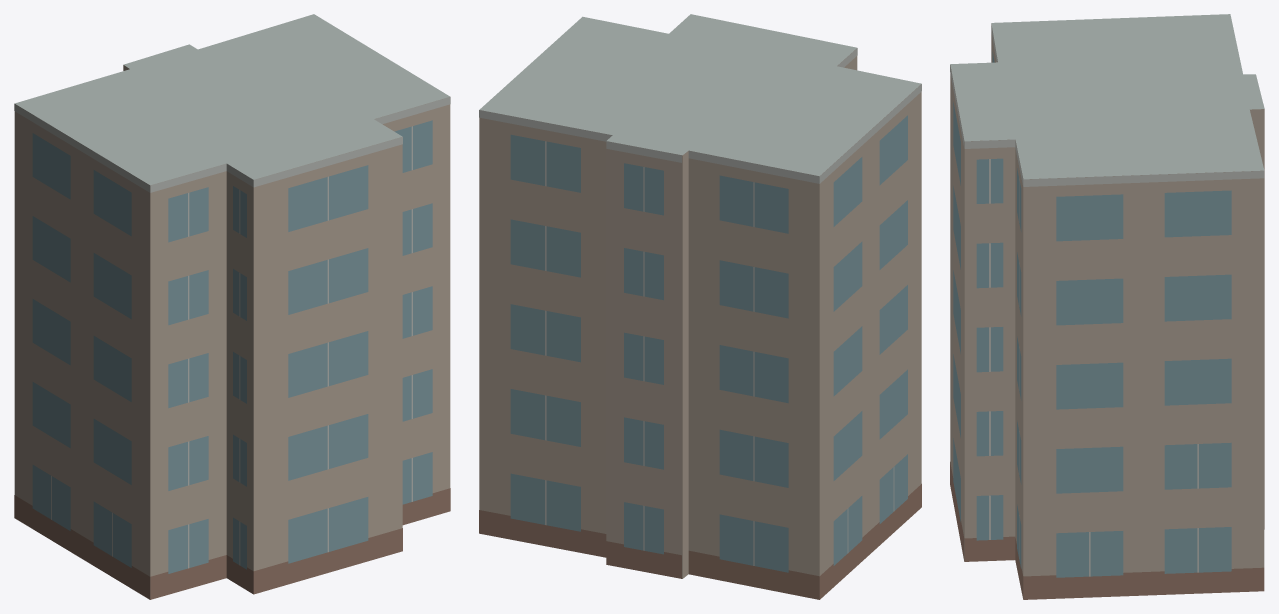
File: survey-upis-32608008.glb
3 renders of one model, left to right at view 1: azimuth 30°, elevation 25°; view 2: azimuth 150°, elevation 25°; view 3: azimuth 270°, elevation 25°, orthographic. The views are drawn at different scales.
Parts seen in each view (by area): view 1: survey-upis-32608008.tmp; view 2: survey-upis-32608008.tmp; view 3: survey-upis-32608008.tmp.
Boxes of the visible parts, x1,y1,x2,y2 form: survey-upis-32608008.tmp: (14, 14, 450, 599); survey-upis-32608008.tmp: (479, 14, 921, 599); survey-upis-32608008.tmp: (950, 14, 1264, 599).
Bounding box in the file's own units: 11.27 × 13.35 × 9.06.
